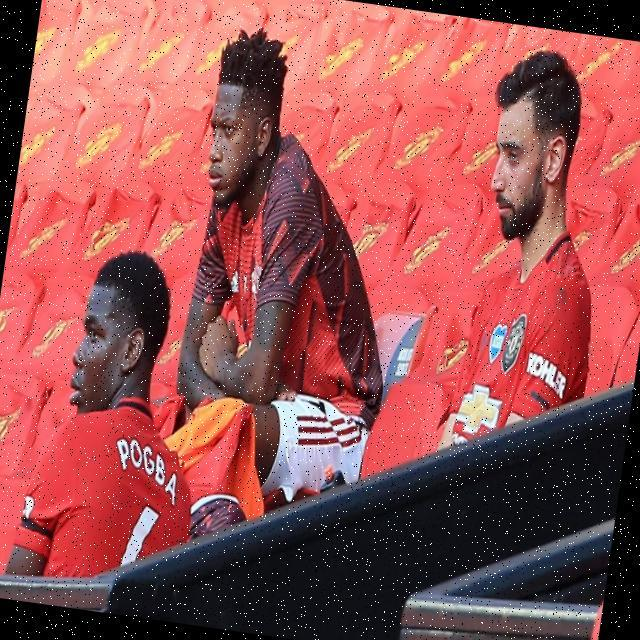Kohler: (521, 348, 571, 405)
